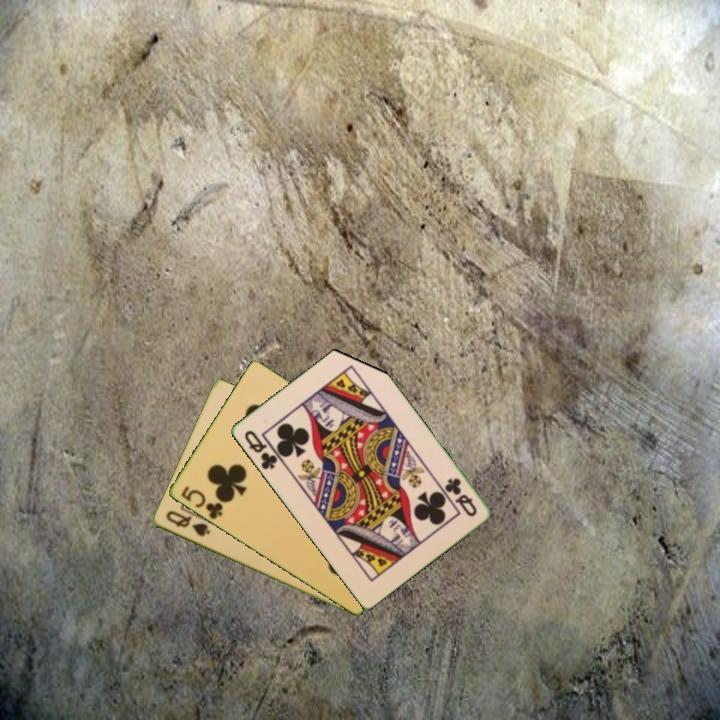5c: (177, 483, 225, 522)
Qc: (240, 426, 280, 473), (441, 474, 480, 520)
Qs: (162, 507, 213, 540)
